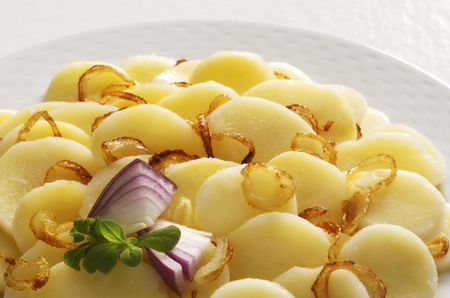boiled potatoes: (159, 79, 414, 283)
